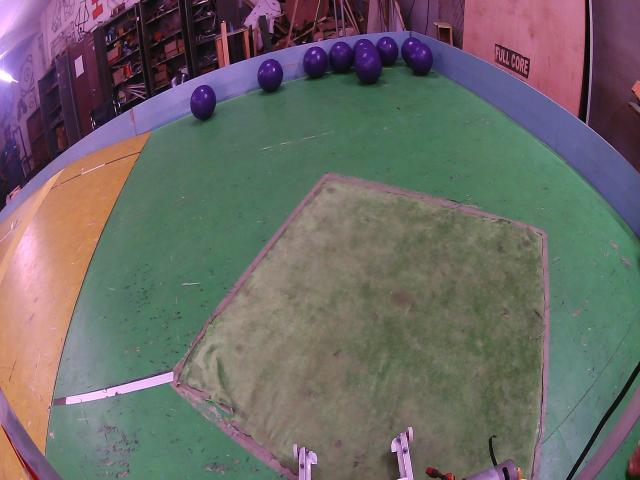jambhalya: (354, 47, 382, 83), (190, 85, 216, 120), (258, 58, 284, 92), (329, 42, 354, 72), (304, 47, 328, 78), (409, 43, 432, 75), (376, 37, 399, 66), (401, 37, 421, 64), (352, 38, 374, 56)
